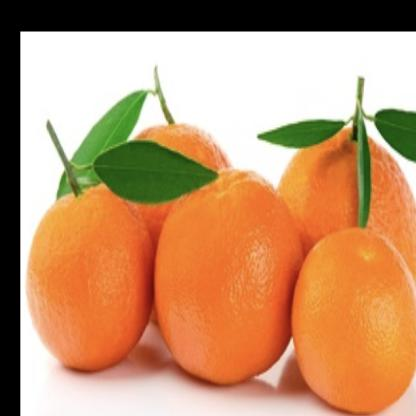fresh: (28, 87, 416, 416)
